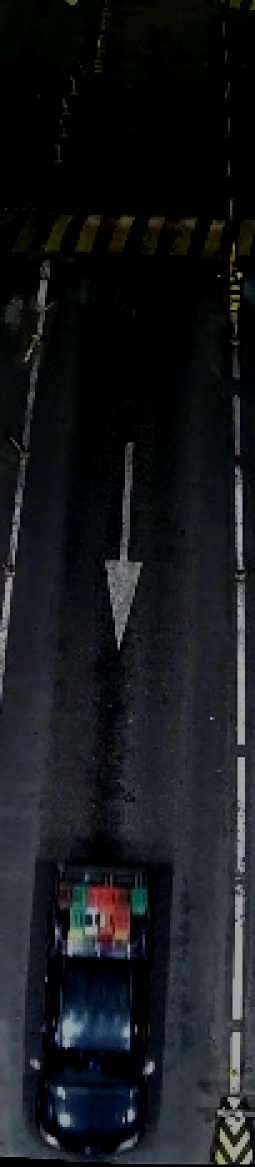car: (23, 855, 156, 1155)
